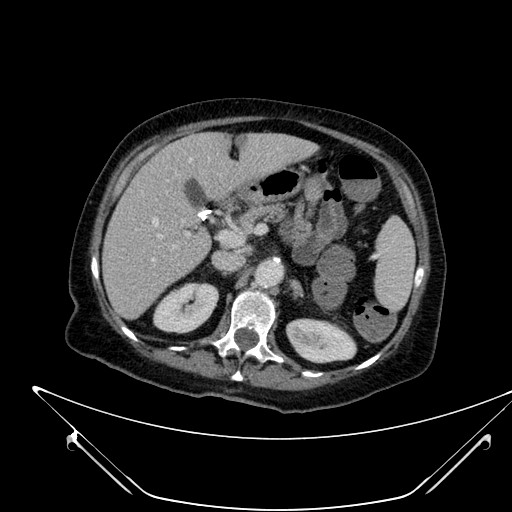clipe: (196, 208, 212, 221)
